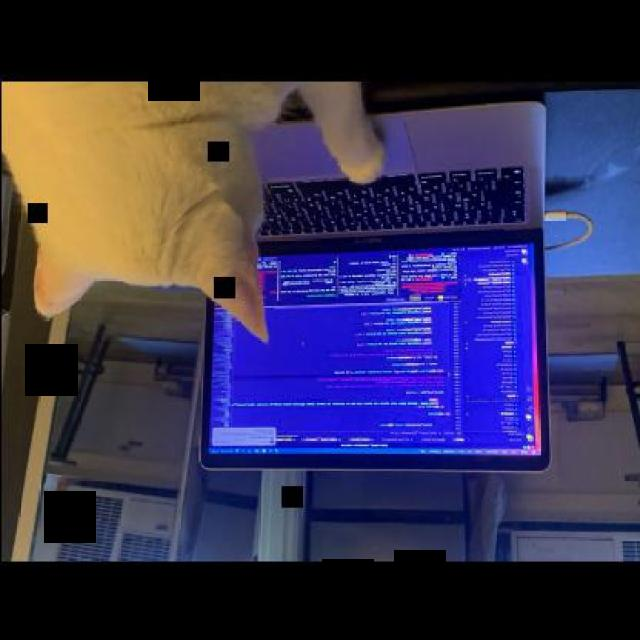unauthorized: (0, 79, 386, 343)
